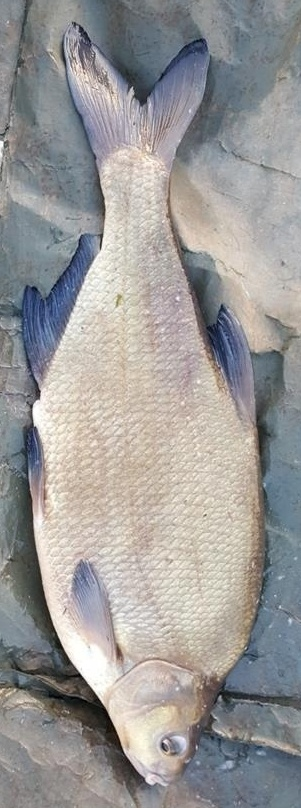Abramis brama: (20, 20, 281, 788)
